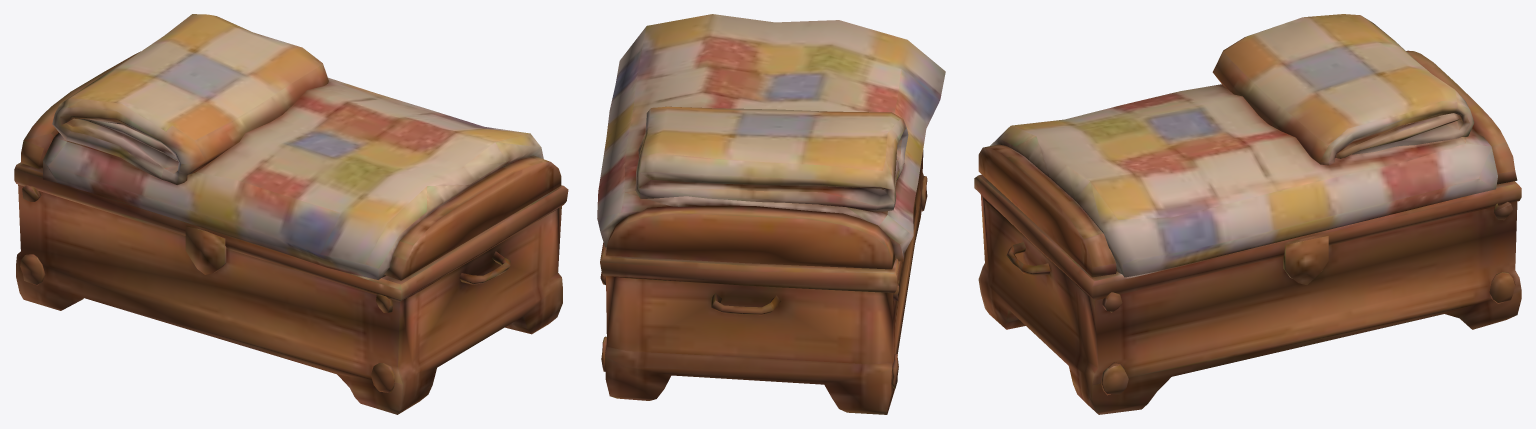
File: wyn_furn_quilt_chest.glb
3 views of the same model, side by side, from view 1: azimuth 30°, elevation 25°; view 2: azimuth 150°, elevation 25°; view 3: azimuth 270°, elevation 25° (orthographic). The views are drawn at different scales.
Visible parts, largest first — view 1: tripo_node_77bb0951-31c7-4e48-b81e-1587d2df90dd; view 2: tripo_node_77bb0951-31c7-4e48-b81e-1587d2df90dd; view 3: tripo_node_77bb0951-31c7-4e48-b81e-1587d2df90dd.
Part boxes in pixels (x1,y1,x2,y2): tripo_node_77bb0951-31c7-4e48-b81e-1587d2df90dd: [14, 14, 568, 414]; tripo_node_77bb0951-31c7-4e48-b81e-1587d2df90dd: [597, 14, 945, 414]; tripo_node_77bb0951-31c7-4e48-b81e-1587d2df90dd: [974, 14, 1521, 414].
Bounding box in the file's own units: 1.26 × 0.7 × 1.45.
1 material, 1 textured.
